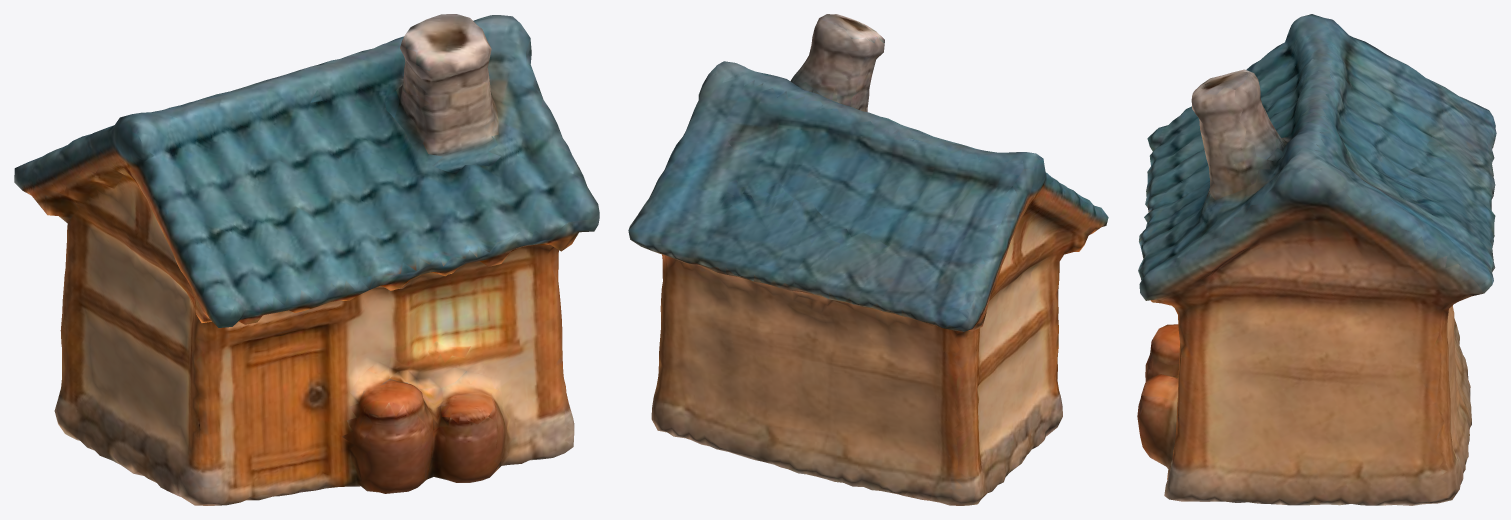
Rendered from processor.glb.
3 views of the same model, side by side, from view 1: azimuth 30°, elevation 25°; view 2: azimuth 150°, elevation 25°; view 3: azimuth 270°, elevation 25° (orthographic). The views are drawn at different scales.
Parts seen in each view (by area): view 1: world; view 2: world; view 3: world.
Part boxes in pixels (x1,y1,x2,y2): world: (14,14,599,505); world: (628,14,1108,505); world: (1137,14,1496,505).
Size of the model in its own units: 3.29 by 3.3 by 2.75.
Materials: 1 (1 with a texture image).
